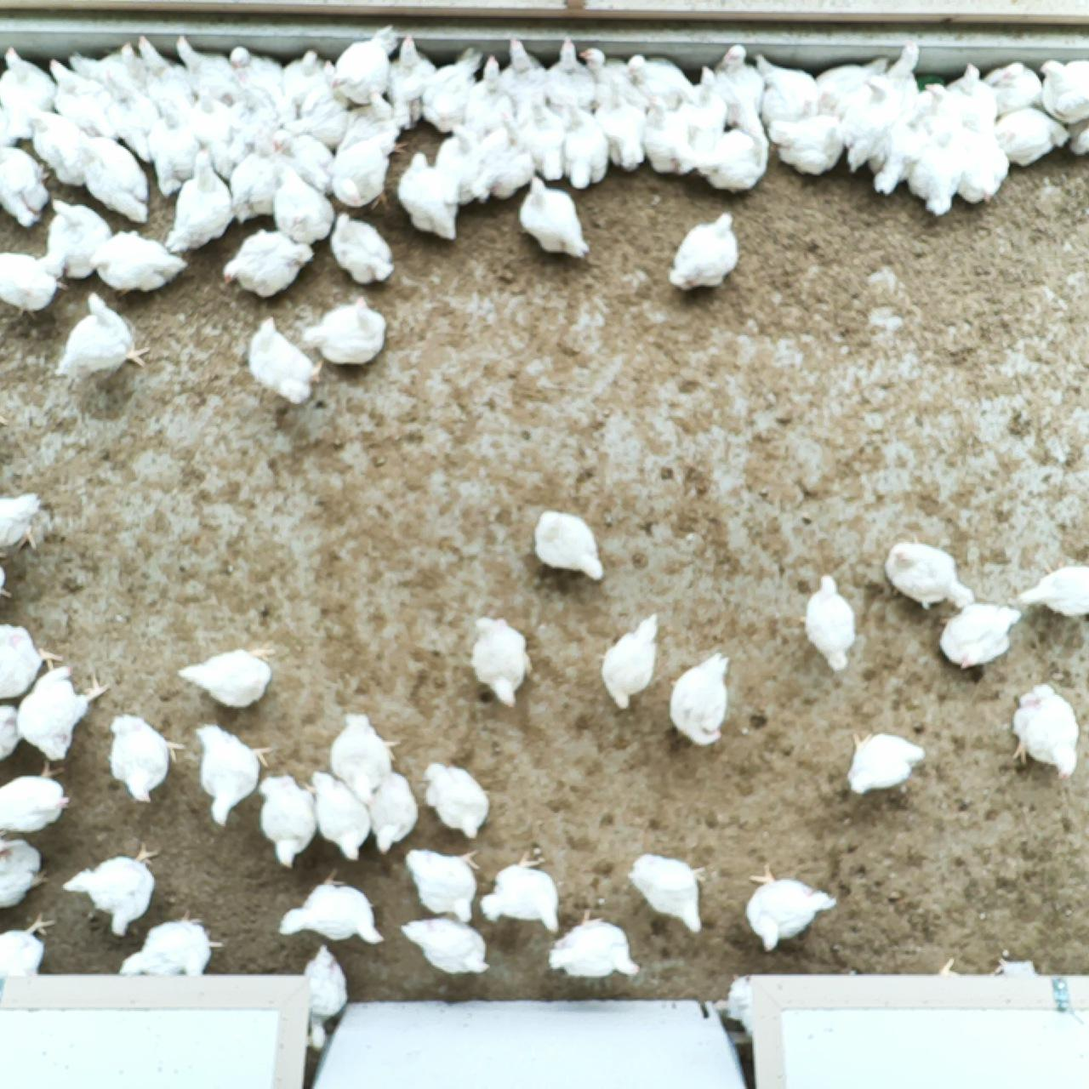chicken: (59, 837, 164, 940), (843, 42, 921, 176), (737, 856, 840, 955), (51, 289, 154, 388), (14, 661, 111, 765), (271, 864, 390, 947), (190, 717, 274, 828), (1005, 678, 1084, 785), (476, 846, 567, 938), (544, 902, 645, 983), (242, 312, 329, 406), (285, 947, 362, 1053), (161, 145, 233, 258), (106, 708, 187, 808), (118, 904, 227, 978), (623, 848, 712, 938), (512, 173, 596, 265), (218, 227, 318, 303), (86, 224, 188, 298), (173, 641, 280, 711), (934, 115, 1014, 208), (597, 610, 667, 714), (881, 538, 978, 613), (464, 610, 535, 712), (664, 207, 744, 297), (401, 841, 485, 925), (329, 708, 401, 806), (666, 648, 736, 748), (934, 595, 1023, 673), (794, 569, 860, 674), (301, 294, 392, 370), (528, 507, 610, 590), (328, 133, 409, 216), (78, 133, 152, 223), (255, 767, 320, 868), (306, 765, 372, 863), (398, 909, 492, 977), (843, 726, 928, 801), (419, 758, 492, 845), (394, 148, 459, 242), (330, 21, 398, 109), (0, 43, 59, 143), (695, 118, 771, 195), (0, 758, 74, 837), (270, 159, 336, 247), (422, 44, 485, 136), (329, 207, 398, 287), (766, 111, 848, 178), (21, 108, 91, 186), (0, 248, 70, 325), (43, 58, 112, 136), (904, 128, 964, 217), (0, 618, 62, 704), (134, 33, 196, 119), (1007, 557, 1089, 622), (42, 195, 107, 277), (993, 104, 1073, 170), (592, 84, 650, 174), (386, 31, 437, 133), (560, 93, 612, 191), (187, 84, 237, 181), (368, 770, 423, 858), (150, 103, 199, 201), (475, 113, 527, 204), (712, 41, 765, 130), (813, 50, 889, 112), (458, 53, 512, 140), (269, 125, 336, 195), (580, 44, 651, 110), (754, 54, 816, 129), (641, 95, 697, 177), (288, 58, 349, 133), (0, 907, 60, 983), (496, 34, 553, 114), (173, 30, 238, 100), (517, 94, 566, 185), (678, 63, 726, 155), (337, 92, 400, 161), (228, 132, 274, 226), (0, 145, 53, 226), (110, 81, 159, 165), (433, 124, 481, 208), (626, 48, 697, 104), (1036, 50, 1089, 125), (0, 834, 53, 908), (541, 35, 593, 110), (946, 59, 1000, 131), (976, 58, 1043, 115), (70, 43, 146, 92), (235, 82, 284, 157), (225, 44, 289, 99), (281, 43, 328, 106), (0, 487, 44, 554), (913, 79, 960, 125), (0, 703, 23, 761), (1064, 113, 1089, 157)
